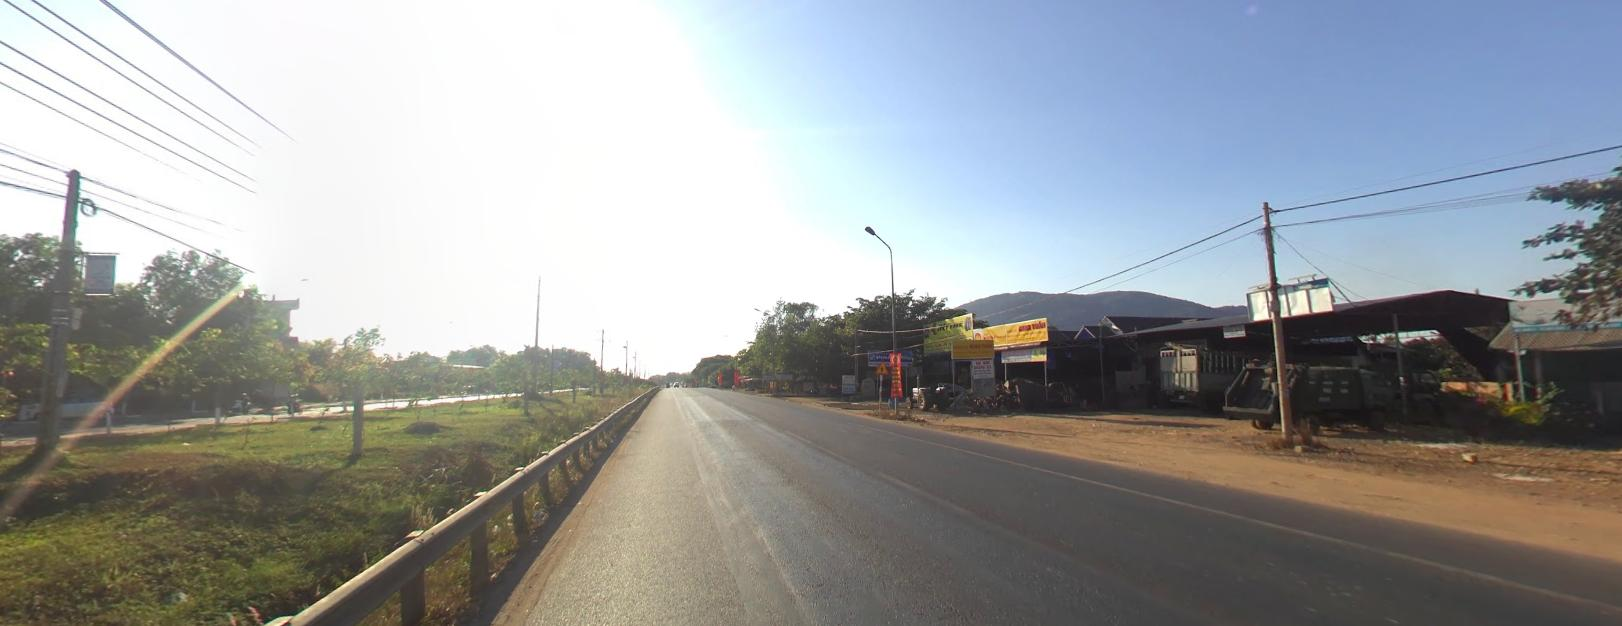Nguy hiem: (874, 359, 888, 373)
